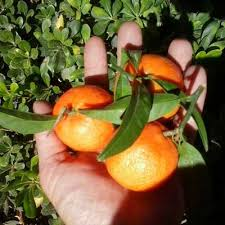orange: (102, 117, 181, 195), (115, 51, 187, 120), (50, 86, 121, 155)
